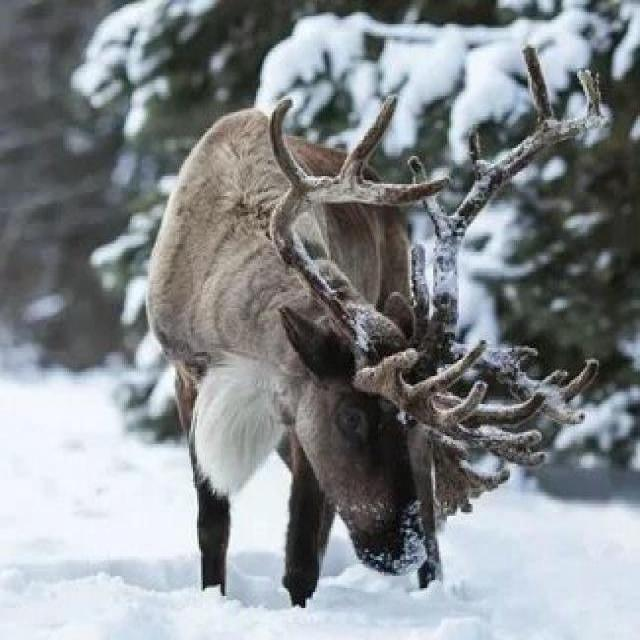deer: (106, 39, 558, 610)
